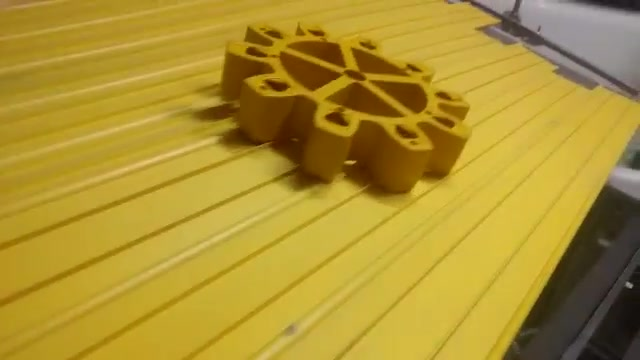gear: (217, 8, 483, 203)
